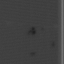dust: (28, 25, 37, 35), (28, 50, 36, 56), (51, 40, 55, 47)
